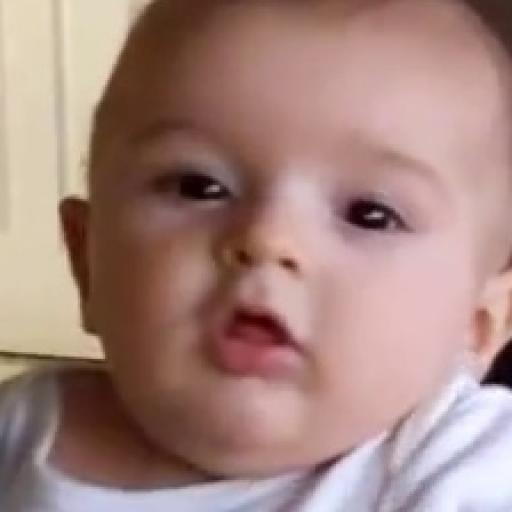Autism: (119, 4, 484, 439)
